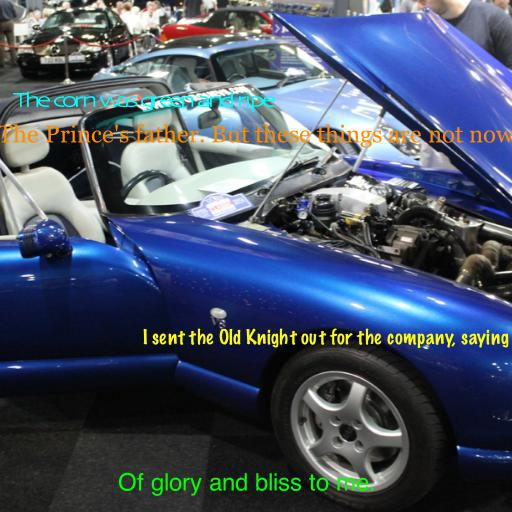Big Caslon: (118, 472, 376, 496)
Georgia: (0, 124, 512, 148)
Marker Felt: (143, 328, 509, 349)
Skia: (13, 91, 273, 112)
